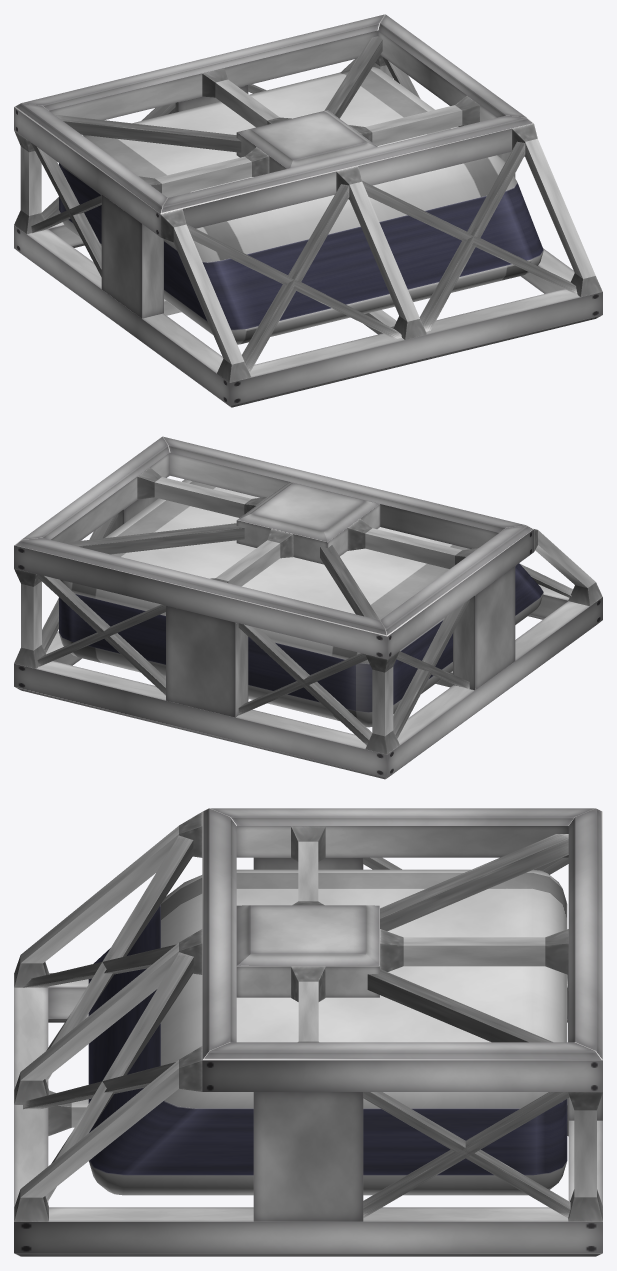
Rendered from ChassisEndu.FBX.
3 views of the same model, one above another, from view 1: azimuth 30°, elevation 25°; view 2: azimuth 150°, elevation 25°; view 3: azimuth 270°, elevation 25° (orthographic). The views are drawn at different scales.
Parts seen in each view (by area): view 1: StorageTank001, Frame001, Frame002, SideHardpoint001, TopHardpoint001, Pilar013, Pilar015, Pilar014, Bracing021, Bracing017, Bracing013, Pilar008 (+8 smaller); view 2: Frame001, StorageTank001, Frame002, SideHardpoint004, TopHardpoint001, SideHardpoint001, Bracing018, Pilar008, Pilar006, Pilar001, Bracing009, Bracing011 (+11 smaller); view 3: StorageTank001, Frame001, Frame002, SideHardpoint003, TopHardpoint001, Pilar014, Pilar005, Pilar015, Pilar013, Bracing017, Bracing019, Bracing020 (+10 smaller).
Part boxes in pixels (left/top/right/bottom): StorageTank001: left=59, top=67, right=543, bottom=344; Frame001: left=14, top=14, right=533, bottom=236; Frame002: left=14, top=222, right=602, bottom=407; SideHardpoint001: left=101, top=194, right=163, bottom=318; TopHardpoint001: left=236, top=110, right=377, bottom=173; Pilar013: left=160, top=209, right=251, bottom=382; Pilar015: left=336, top=166, right=426, bottom=339; Pilar014: left=512, top=123, right=602, bottom=296; Bracing021: left=419, top=141, right=525, bottom=331; Bracing017: left=55, top=114, right=241, bottom=152; Bracing013: left=242, top=184, right=349, bottom=372; Pilar008: left=348, top=96, right=479, bottom=146; Frame001: left=14, top=436, right=533, bottom=659; StorageTank001: left=59, top=479, right=543, bottom=727; Frame002: left=14, top=584, right=602, bottom=779; SideHardpoint004: left=166, top=605, right=248, bottom=717; TopHardpoint001: left=236, top=482, right=380, bottom=564; SideHardpoint001: left=453, top=566, right=515, bottom=690; Bracing018: left=63, top=523, right=244, bottom=554; Pilar008: left=137, top=467, right=268, bottom=517; Pilar006: left=347, top=518, right=478, bottom=568; Pilar001: left=365, top=650, right=399, bottom=754; Bracing009: left=238, top=623, right=372, bottom=745; Bracing011: left=34, top=573, right=165, bottom=695; StorageTank001: left=88, top=869, right=567, bottom=1195; Frame001: left=202, top=808, right=602, bottom=1091; Frame002: left=14, top=973, right=602, bottom=1256; SideHardpoint003: left=253, top=1092, right=363, bottom=1221; TopHardpoint001: left=236, top=905, right=379, bottom=997; Pilar014: left=14, top=1046, right=202, bottom=1221; Pilar005: left=380, top=929, right=568, bottom=974; Pilar015: left=14, top=929, right=202, bottom=1104; Pilar013: left=14, top=812, right=202, bottom=987; Bracing017: left=380, top=834, right=568, bottom=931; Bracing019: left=45, top=835, right=193, bottom=1082; Bracing020: left=45, top=952, right=193, bottom=1202.
Size of the model in its own units: 0.846 by 0.3261 by 0.8462.
